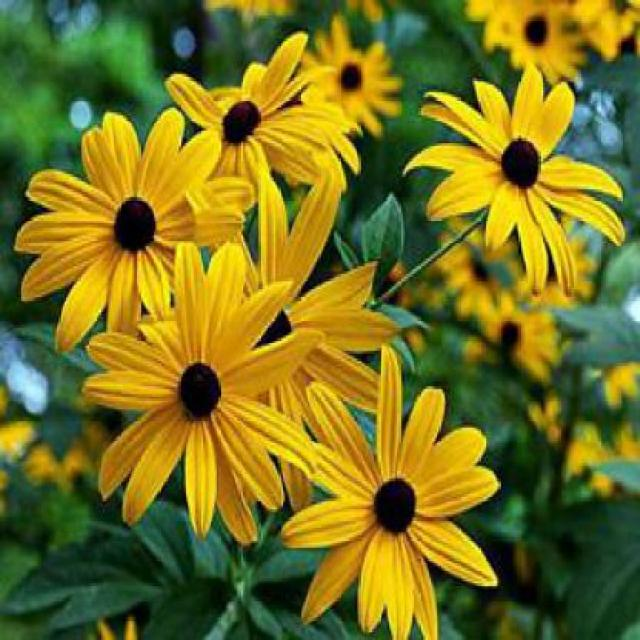Flower: (82, 241, 316, 545), (281, 343, 505, 637), (13, 107, 245, 364), (402, 64, 627, 298), (155, 31, 363, 225), (375, 476, 416, 533), (178, 364, 220, 418), (116, 197, 156, 251), (502, 139, 542, 193)
